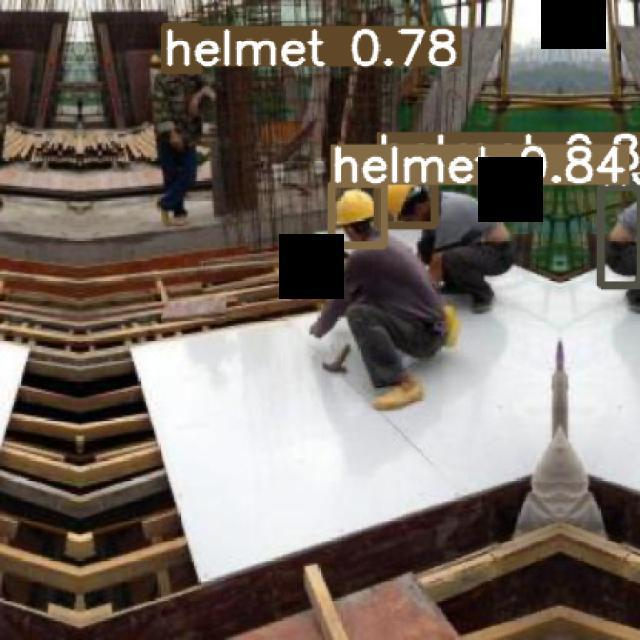yellow helmet: (337, 188, 379, 229), (389, 183, 418, 221)
